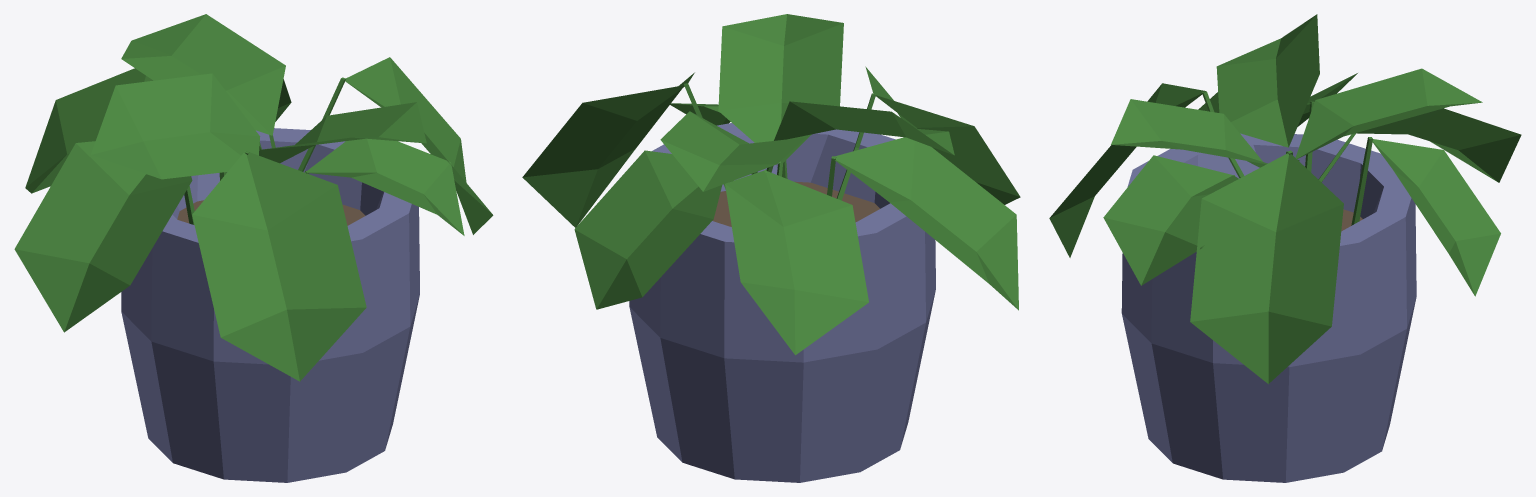
Rendered from Flower_18.fbx.
The picture shows the model from 3 angles, left to right: view 1: azimuth 30°, elevation 25°; view 2: azimuth 150°, elevation 25°; view 3: azimuth 270°, elevation 25°; orthographic projection. The views are drawn at different scales.
Parts seen in each view (by area): view 1: Flower_18; view 2: Flower_18; view 3: Flower_18.
Part boxes in pixels (x1,y1,x2,y2): Flower_18: (14, 14, 493, 482); Flower_18: (522, 14, 1020, 482); Flower_18: (1049, 14, 1521, 482).
Size of the model in its own units: 68.29 by 62.79 by 52.08.
